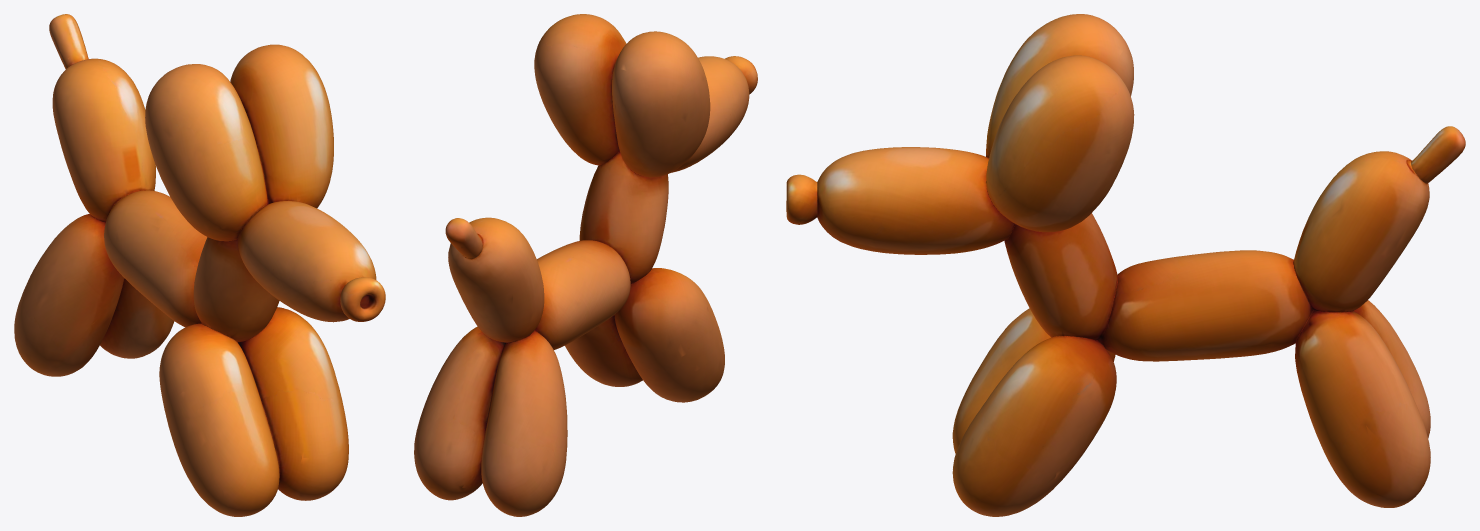
Rendered from balloon_dog.glb.
The picture shows the model from 3 angles, left to right: view 1: azimuth 30°, elevation 25°; view 2: azimuth 150°, elevation 25°; view 3: azimuth 270°, elevation 25°; orthographic projection. The views are drawn at different scales.
Visible parts, largest first — view 1: model; view 2: model; view 3: model.
Part boxes in pixels (x1,y1,x2,y2): model: [14, 14, 385, 516]; model: [414, 14, 757, 516]; model: [786, 14, 1465, 516].
Size of the model in its own units: 0.5389 by 1.29 by 1.75.
1 material, 1 textured.
